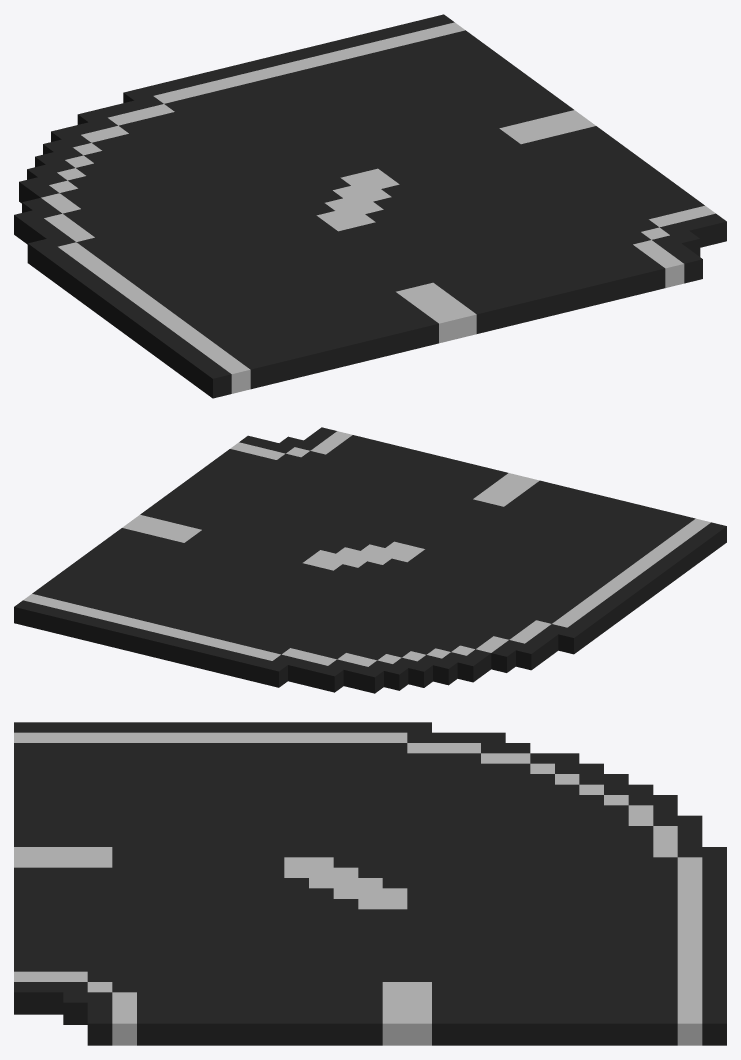
Rendered from road-rounded-curve-1.gltf.
3 views of the same model, one above another, from view 1: azimuth 30°, elevation 25°; view 2: azimuth 150°, elevation 25°; view 3: azimuth 270°, elevation 25° (orthographic). The views are drawn at different scales.
Visible parts, largest first — view 1: road-rounded-curve-1_model; view 2: road-rounded-curve-1_model; view 3: road-rounded-curve-1_model.
Part boxes in pixels (<box>): road-rounded-curve-1_model: <box>14,14,726,398</box>; road-rounded-curve-1_model: <box>14,427,726,693</box>; road-rounded-curve-1_model: <box>14,722,726,1045</box>.
Bounding box in the file's own units: 2.9 × 0.1 × 2.9.
1 material, 1 textured.
